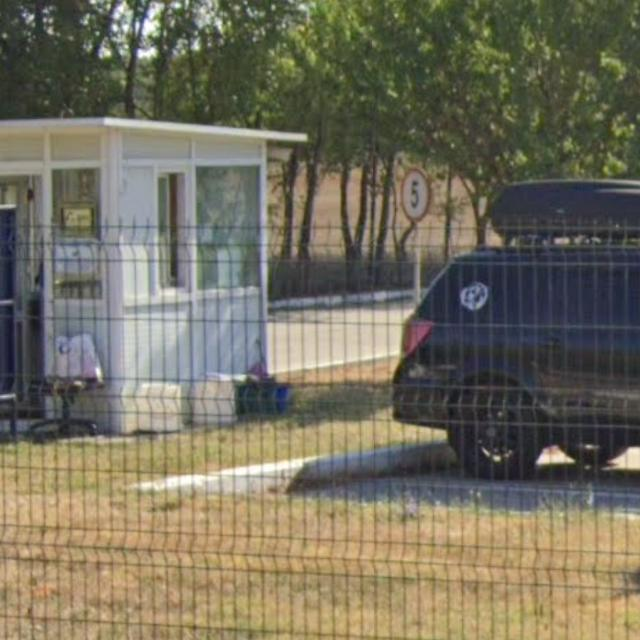forb_speed_over_5: (400, 168, 430, 224)
